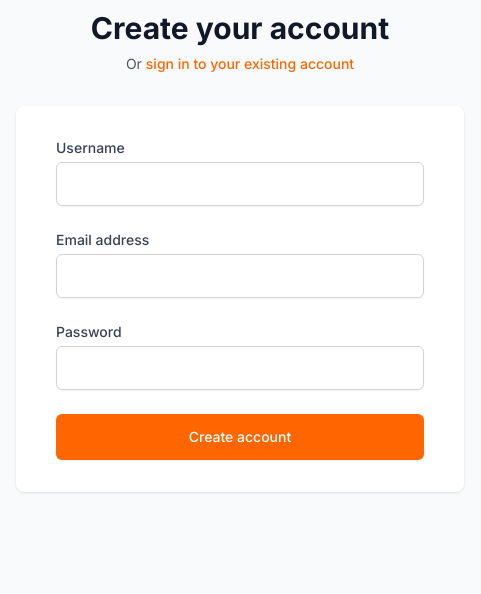
Test case: Signup Page › Form Validation - Username › should show error when username is empty
Step 1. Click the button "Create account" → (240, 437), box [56,414,424,460]
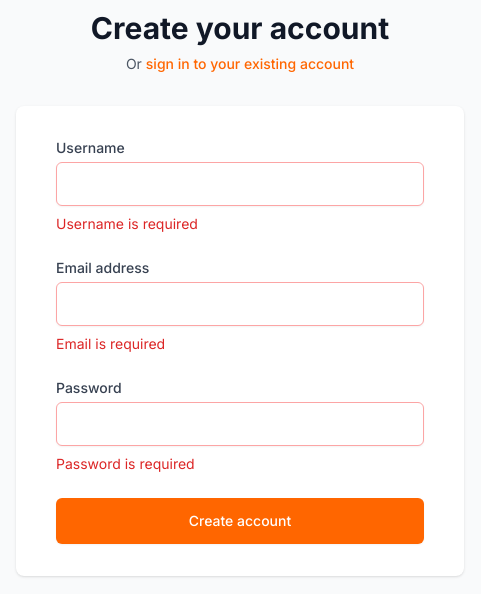
expect the text "Username is required" is shown: met, box [56,215,198,232]
